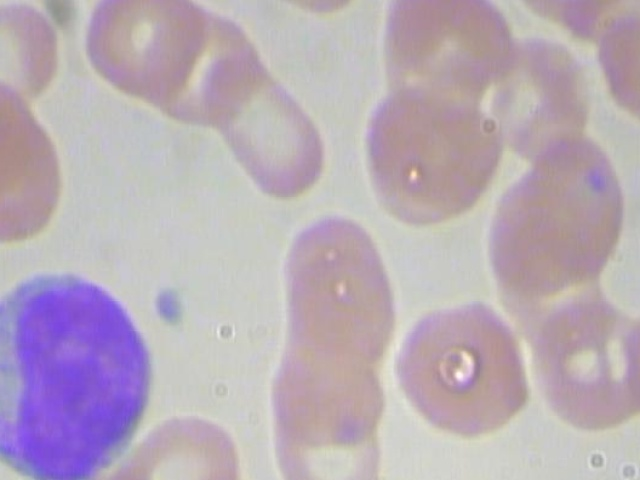Platelets: (145, 284, 193, 334)
RBC: (194, 47, 334, 217), (361, 87, 516, 237), (390, 292, 540, 440), (523, 289, 640, 439), (135, 0, 264, 132), (266, 329, 390, 449), (378, 0, 517, 106), (281, 246, 397, 368), (77, 0, 205, 104), (266, 394, 390, 480), (123, 409, 247, 480), (500, 0, 630, 29), (614, 288, 640, 424), (230, 0, 363, 16)
WBC: (0, 253, 158, 480)
